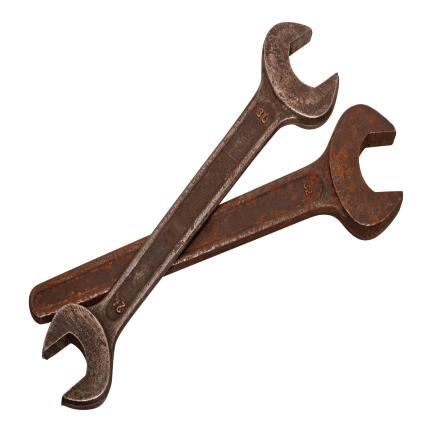karat: (168, 105, 403, 273), (31, 238, 145, 322), (329, 105, 403, 234), (253, 106, 272, 124), (270, 216, 270, 216)
